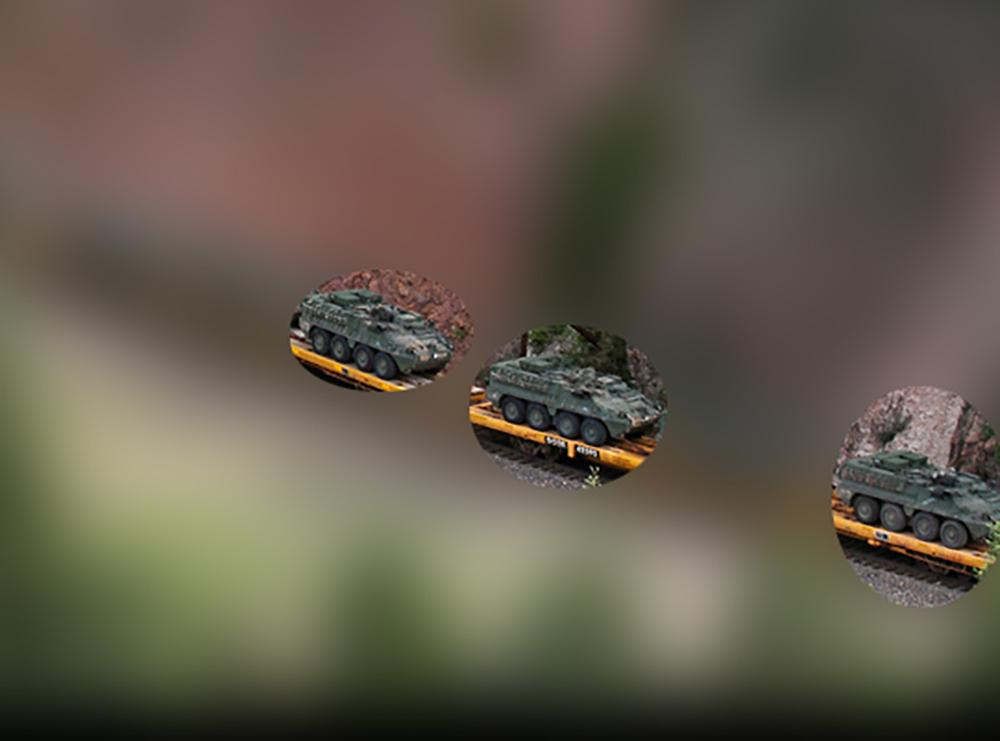armored_car: (486, 352, 666, 450), (832, 446, 1000, 551), (298, 286, 453, 382)
